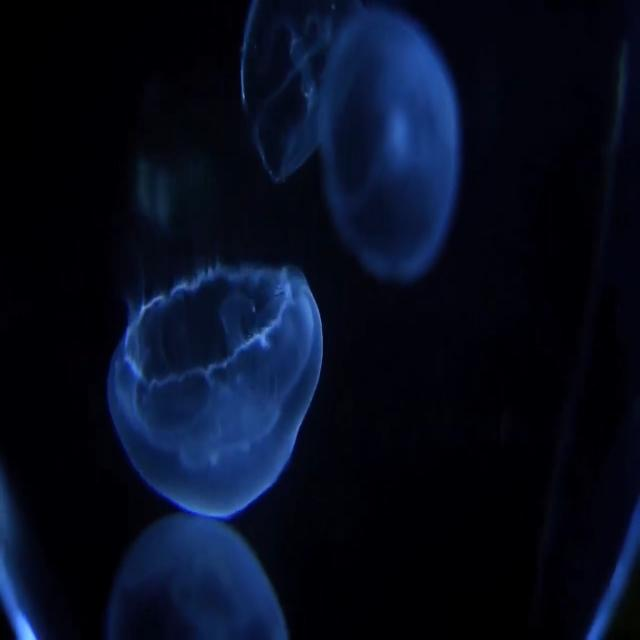Moon-jellyfish: (107, 263, 322, 517)
